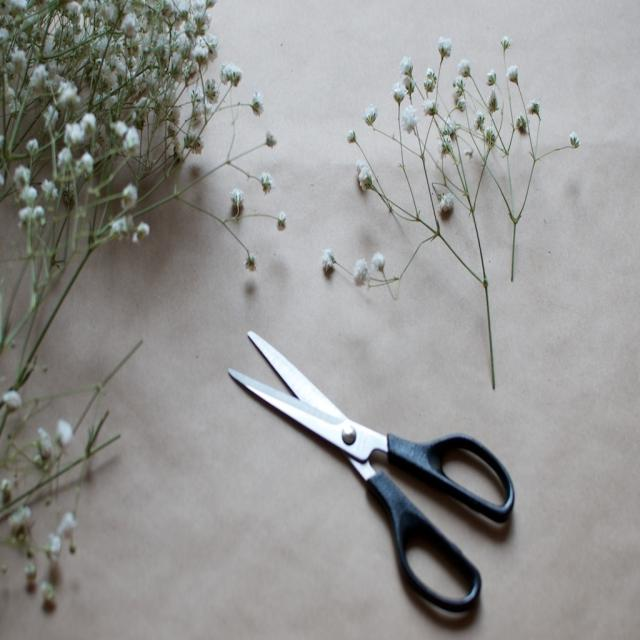scissors: (227, 329, 515, 614)
